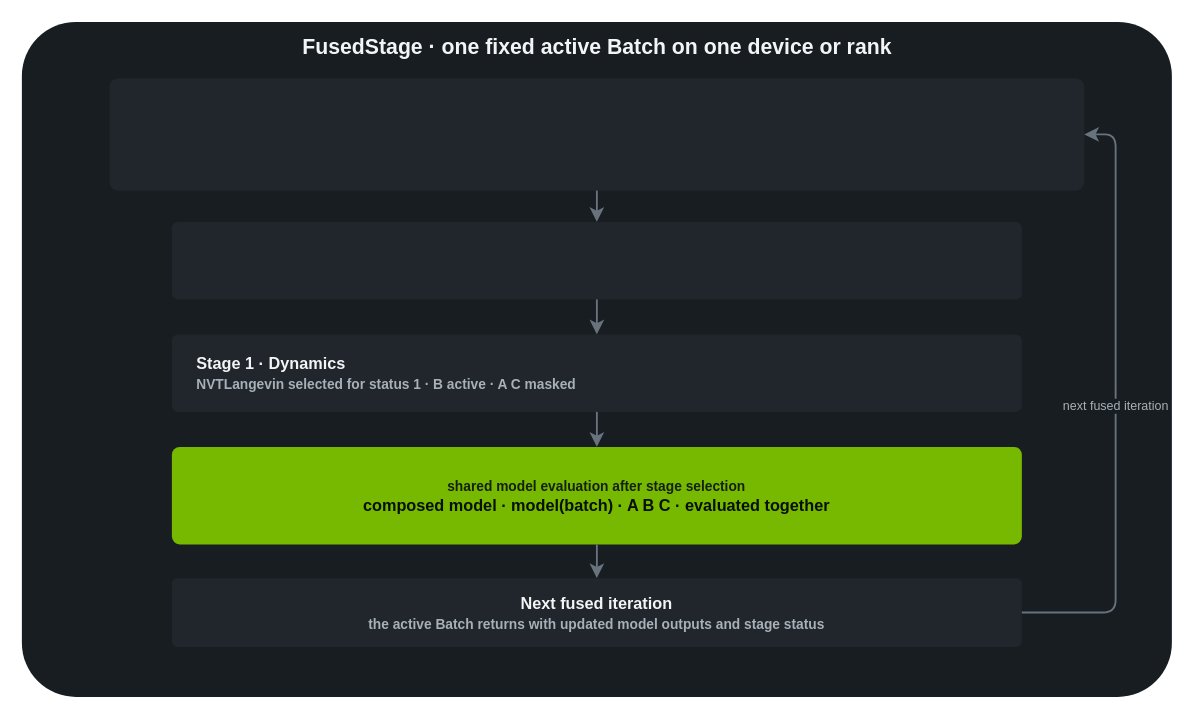
Some shapes in this 1193 by 718 pixel diagram are drawn without their labels. Here are the shapes that lost their labels. From the top down, the centre of each, then its label:
the point at 596,134: Active Batch one stage code per molecule 0 FIRE2 · 1 NVTLangevin · 2 complete
the point at 596,260: Stage 0 · Optimization FIRE2 selected for status 0 · A C active · B masked
